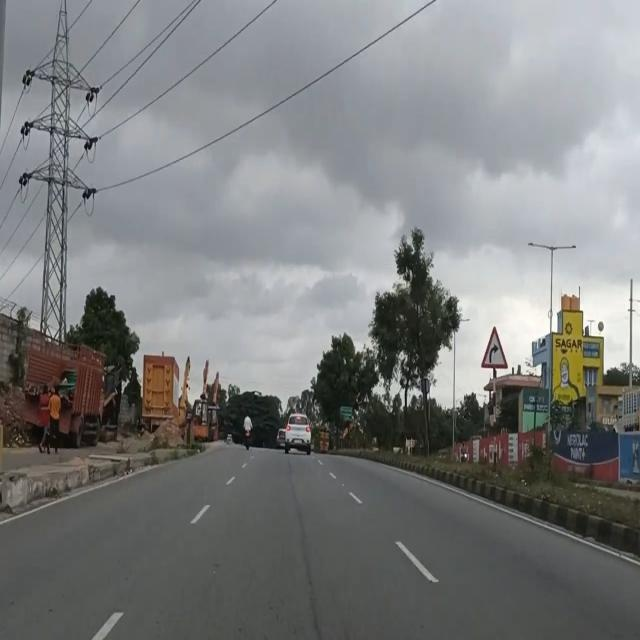bien_nguy_hiem: (481, 322, 508, 369)
